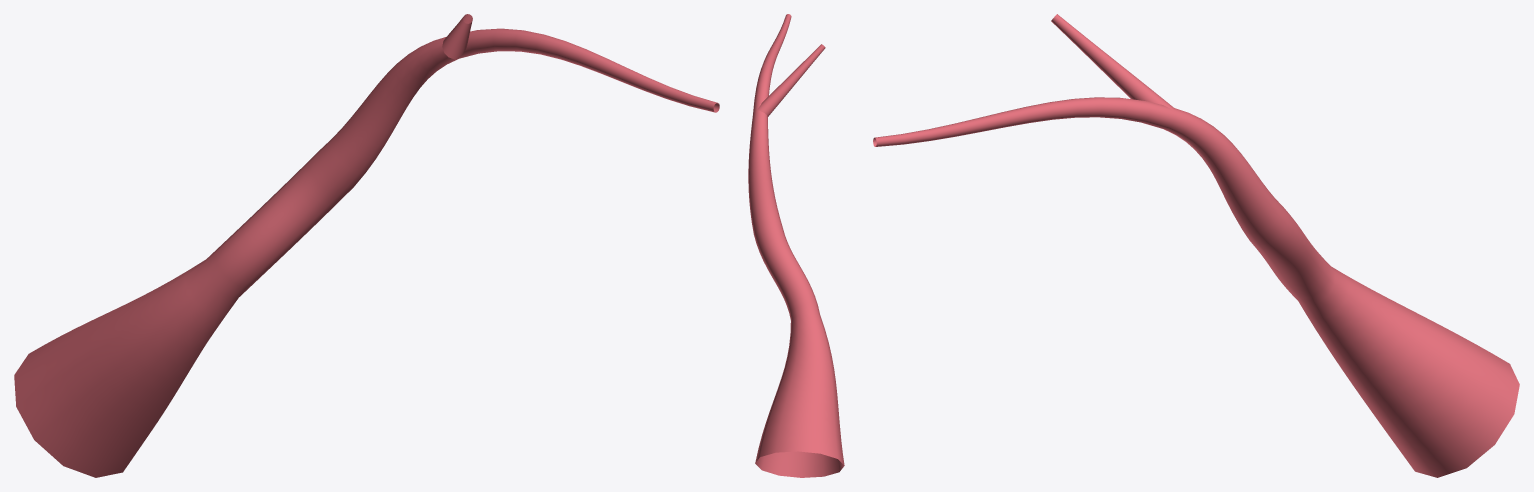
3 views of the same model, side by side, from view 1: azimuth 30°, elevation 25°; view 2: azimuth 150°, elevation 25°; view 3: azimuth 270°, elevation 25° (orthographic). The views are drawn at different scales.
Visible parts, largest first — view 1: ZA_ab646c66aa1892ef; view 2: ZA_ab646c66aa1892ef; view 3: ZA_ab646c66aa1892ef.
Part boxes in pixels (bbox=[...]): ZA_ab646c66aa1892ef: bbox=[14, 14, 719, 477]; ZA_ab646c66aa1892ef: bbox=[748, 14, 844, 477]; ZA_ab646c66aa1892ef: bbox=[873, 14, 1519, 477].
Size of the model in its own units: 0.018 by 0.0244 by 0.027.
